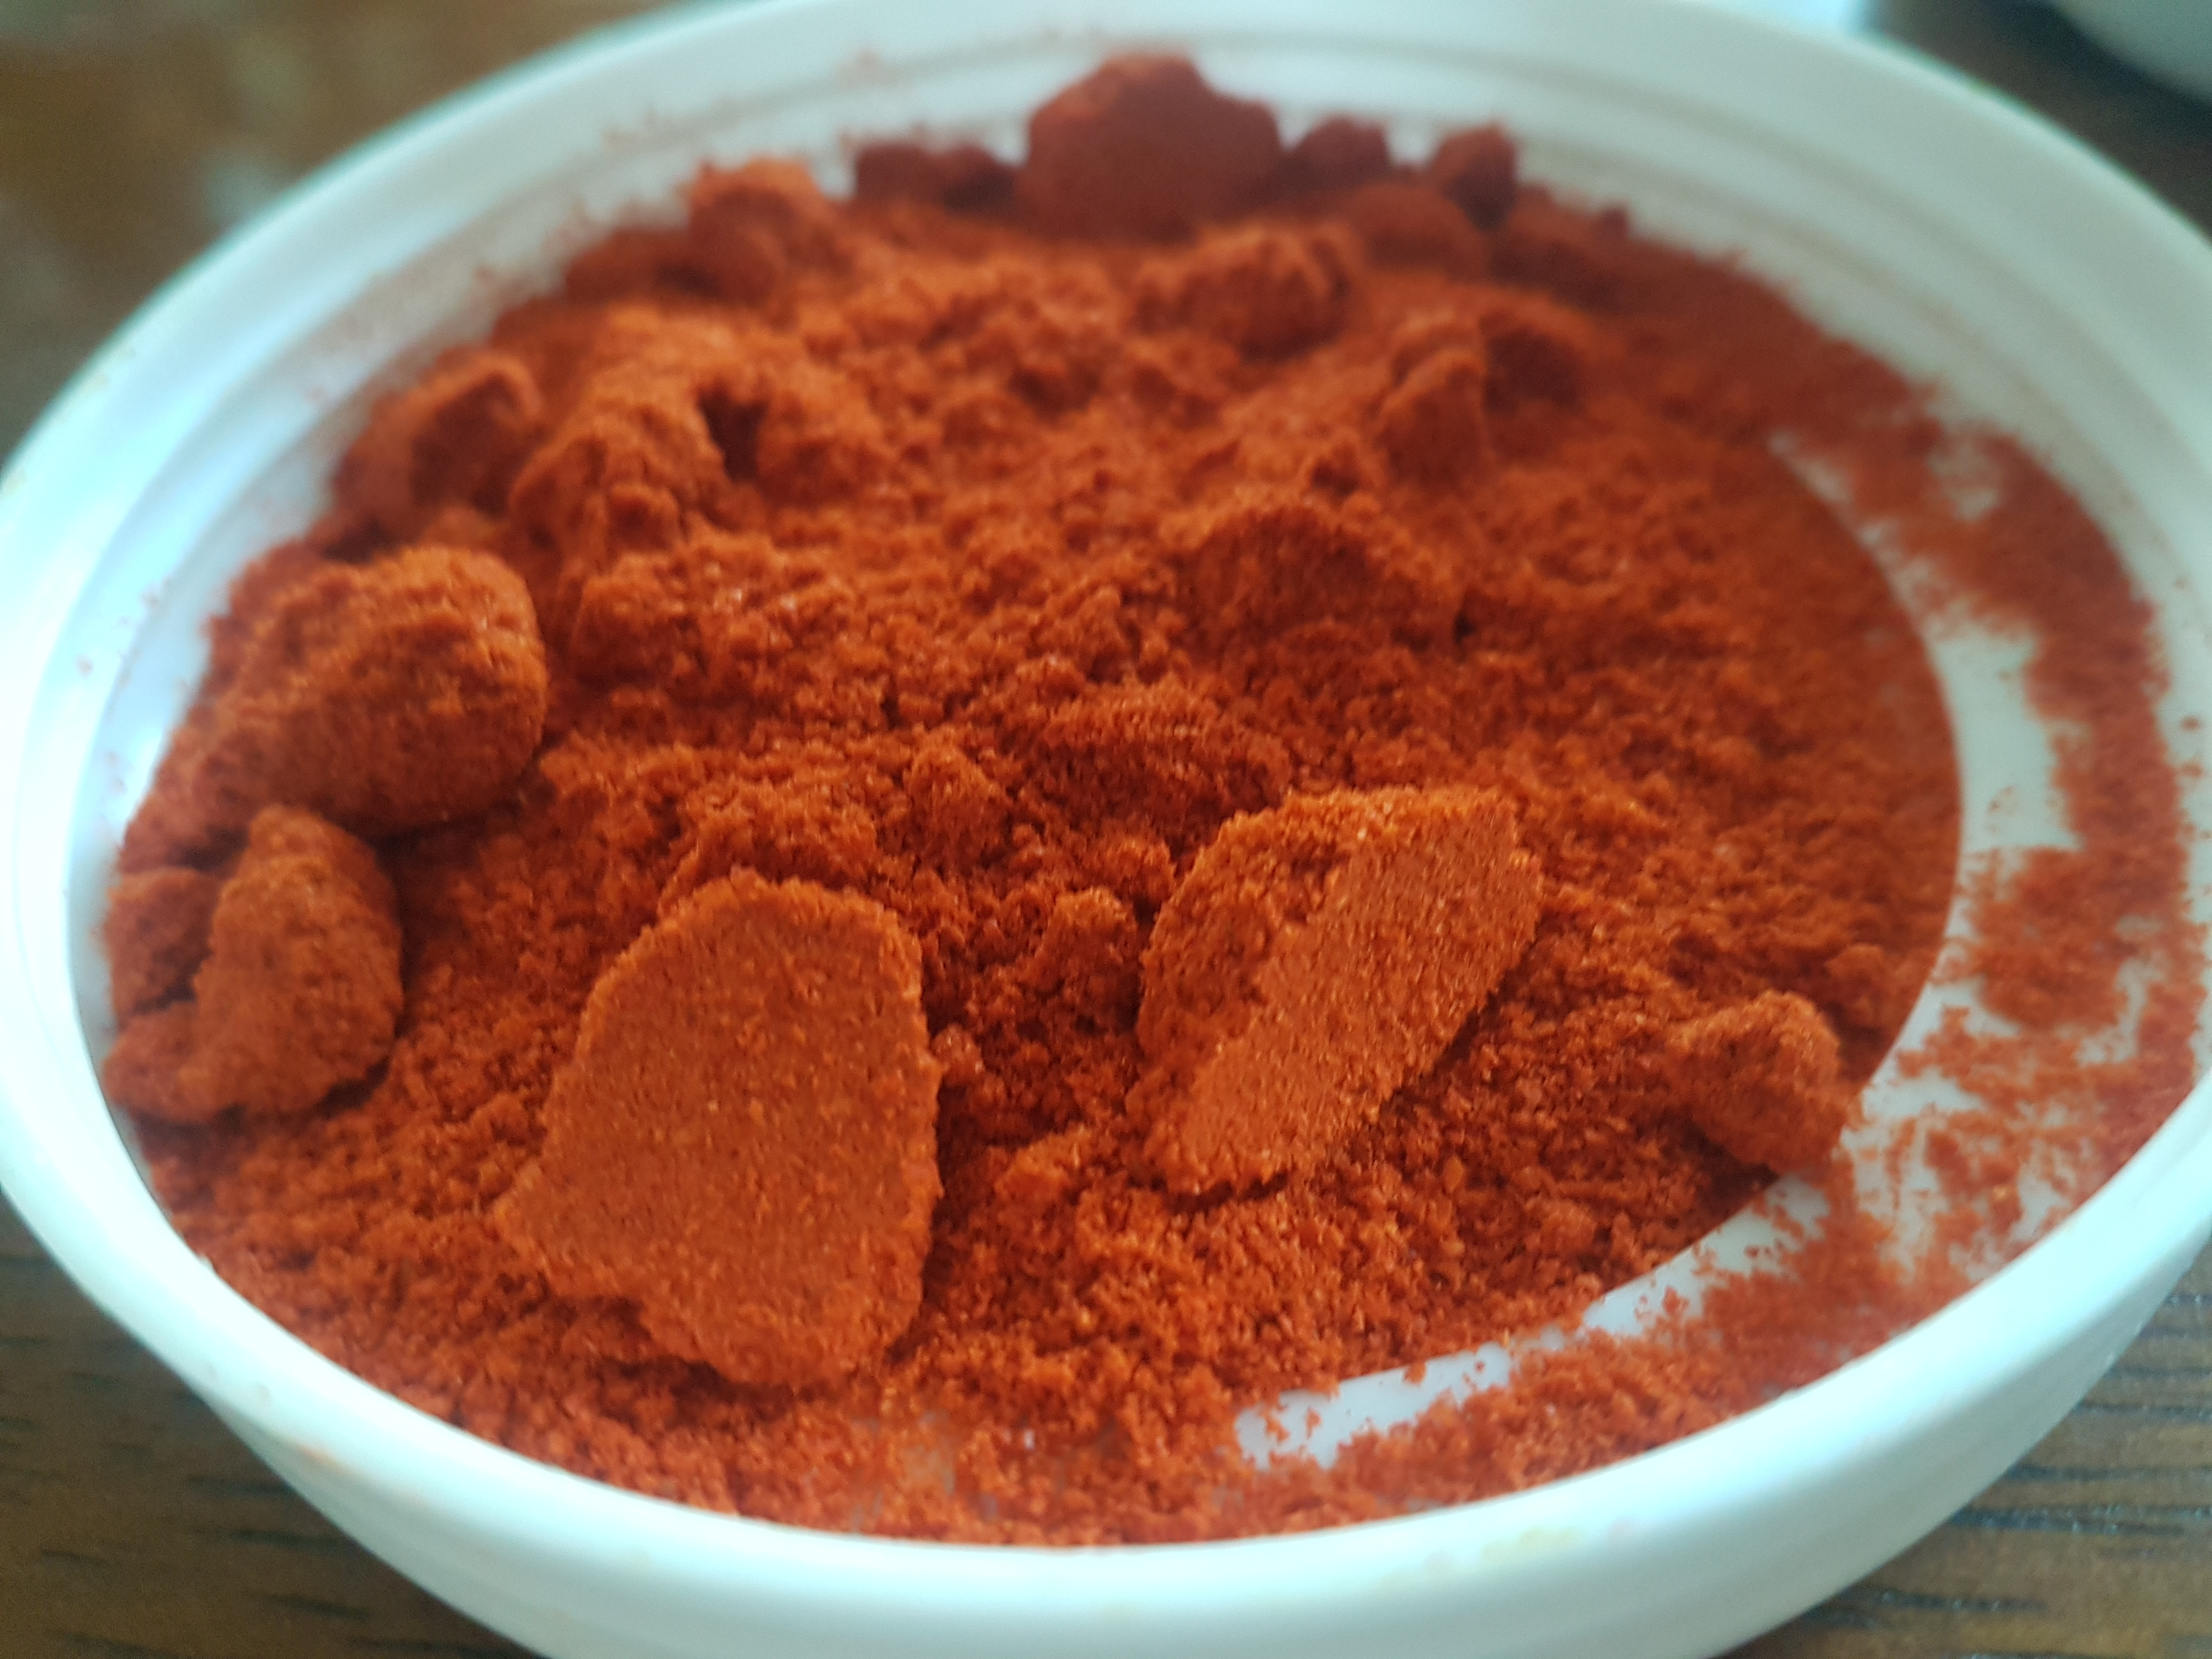Red chilli: (91, 105, 2184, 1528)
